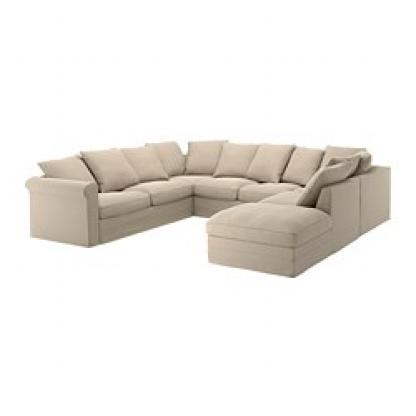Sofa: (16, 105, 392, 293)
